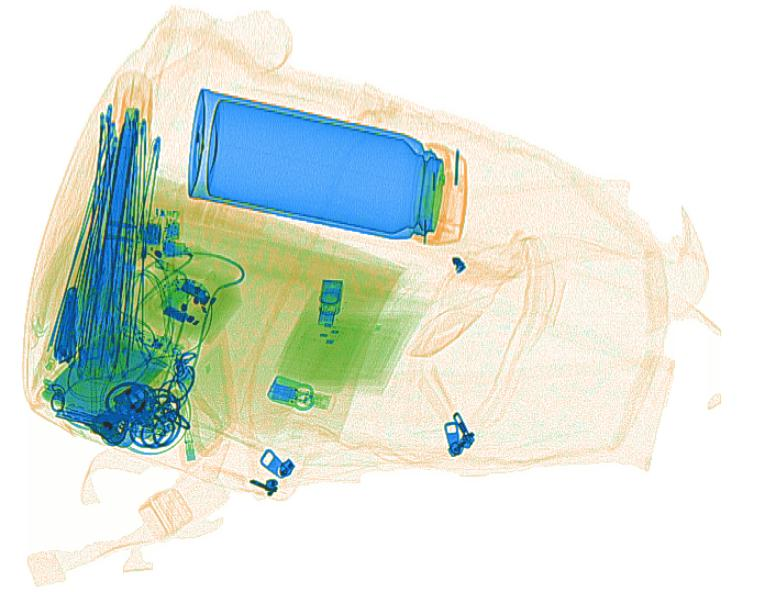USBFlashDisk: (263, 373, 330, 411), (316, 278, 343, 327)
